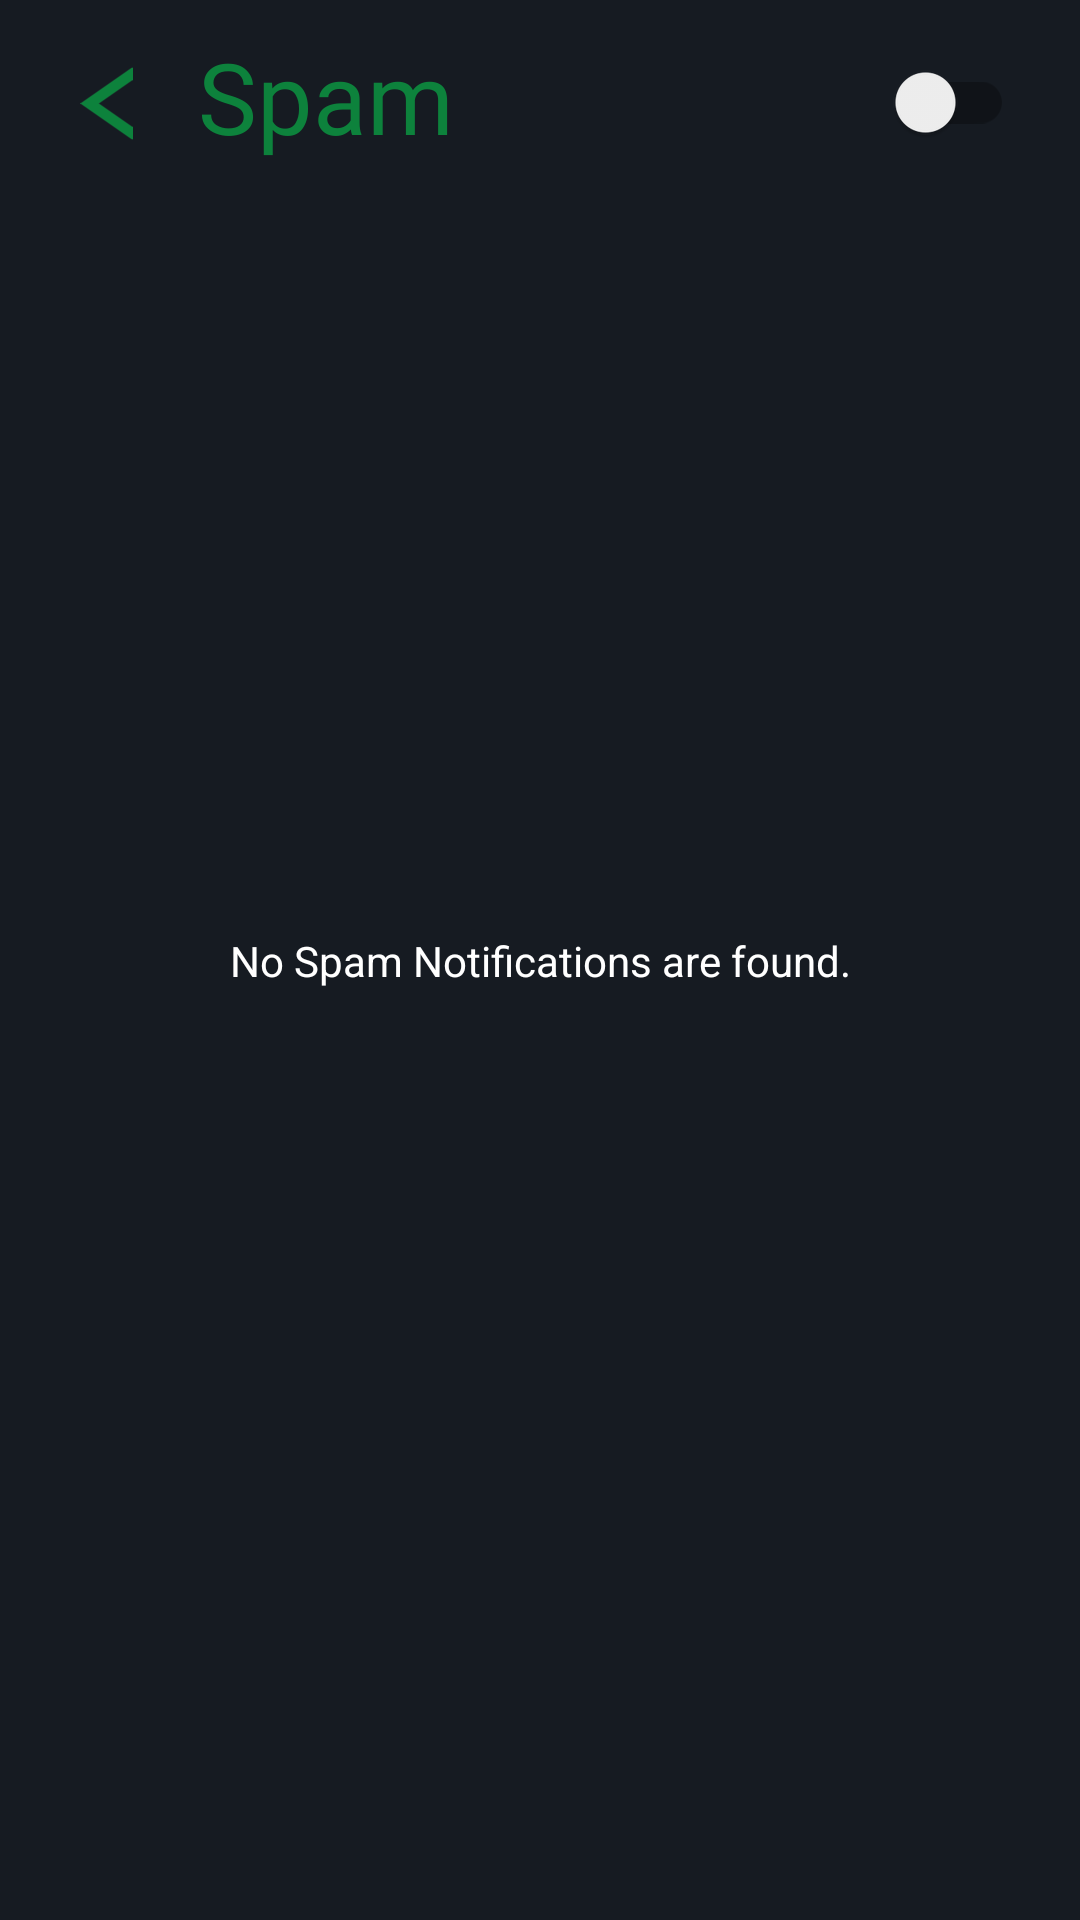

Icon click points for this 1080*1920 phone screenshot, format [x,y]:
arrow back: [106,103]
